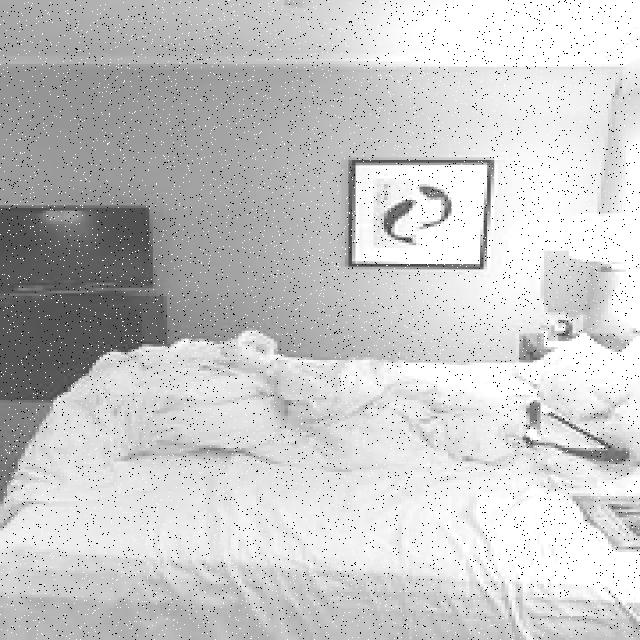bed: (64, 328, 640, 624)
